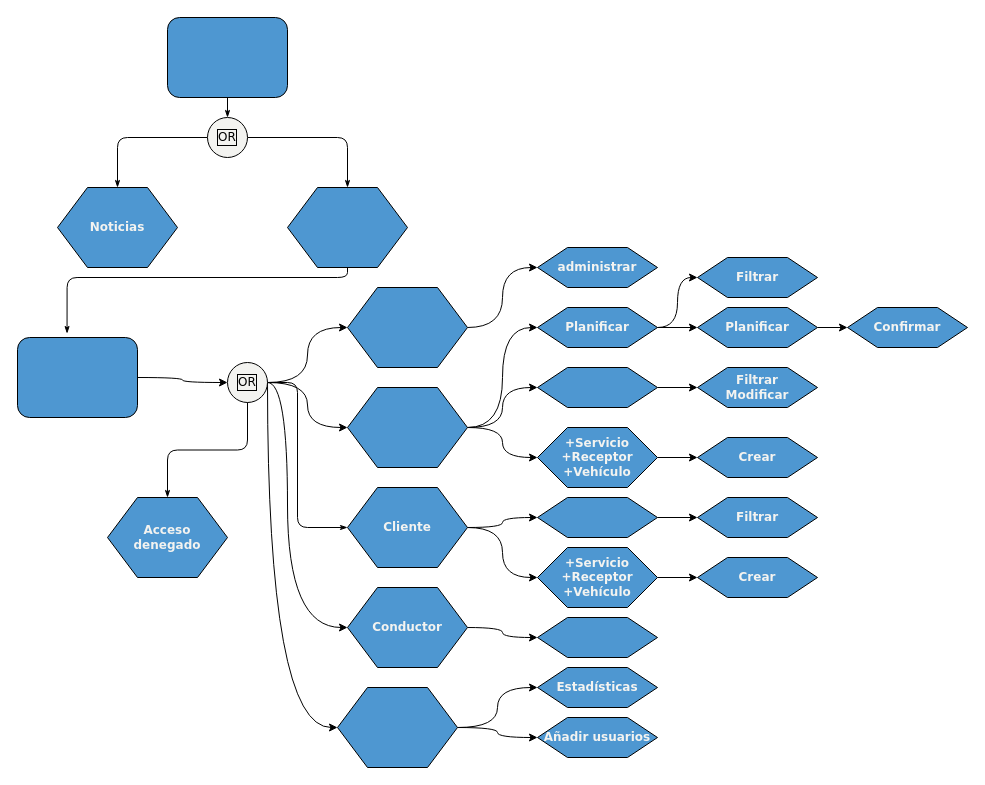
Image size: 985x785. Some labels were removed from this diagram. Each missing label, with the box of its shape:
Admin: (346, 286, 468, 368)
Historial: (536, 366, 658, 408)
index: (166, 16, 288, 98)
Iniciar sesión: (286, 186, 408, 268)
Login: (16, 336, 138, 418)
Manager: (336, 686, 458, 768)
Planificador: (346, 386, 468, 468)
Ruta: (536, 616, 658, 658)
Servicios: (536, 496, 658, 538)
